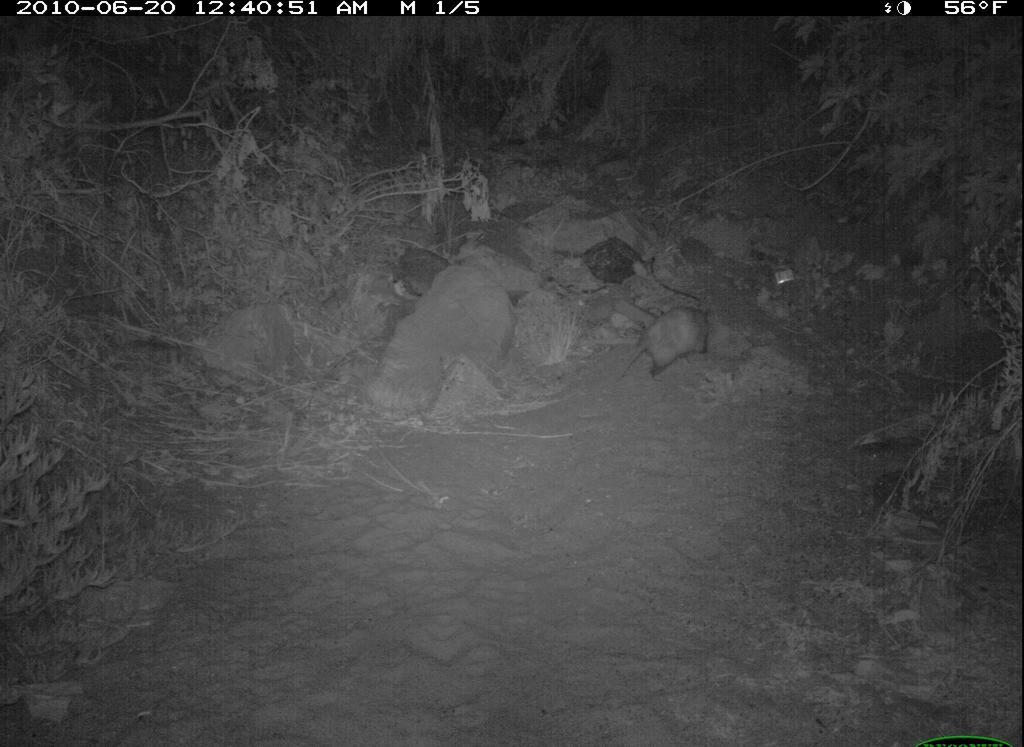opossum: (615, 300, 724, 395)
